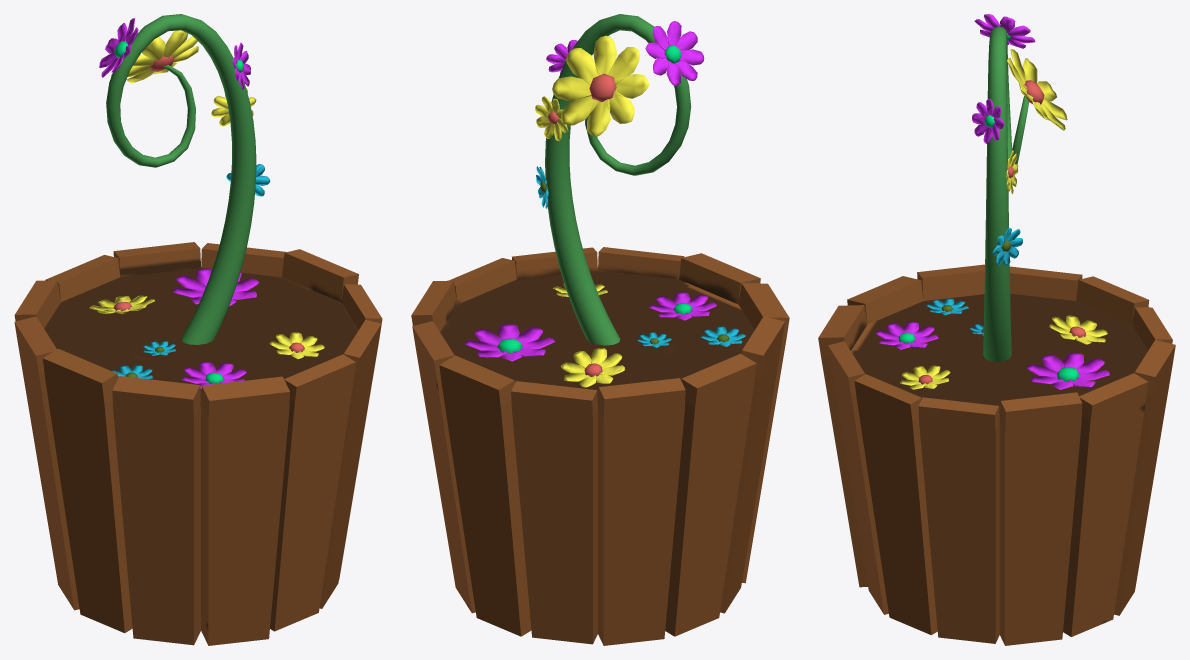
Rendered from Flowers.fbx.
3 renders of one model, left to right at view 1: azimuth 30°, elevation 25°; view 2: azimuth 150°, elevation 25°; view 3: azimuth 270°, elevation 25°, orthographic. The views are drawn at different scales.
Parts seen in each view (by area): view 1: Pot, Flower; view 2: Pot, Flower; view 3: Pot, Flower.
Boxes of the visible parts, x1=… form: Pot: x1=14, y1=242, x2=382, y2=645; Flower: x1=89, y1=14, x2=324, y2=388; Pot: x1=411, y1=247, x2=789, y2=645; Flower: x1=464, y1=14, x2=745, y2=387; Pot: x1=818, y1=264, x2=1175, y2=645; Flower: x1=875, y1=14, x2=1109, y2=389.
Size of the model in its own units: 231 by 393 by 234.
Materials: 2 (2 with a texture image).
